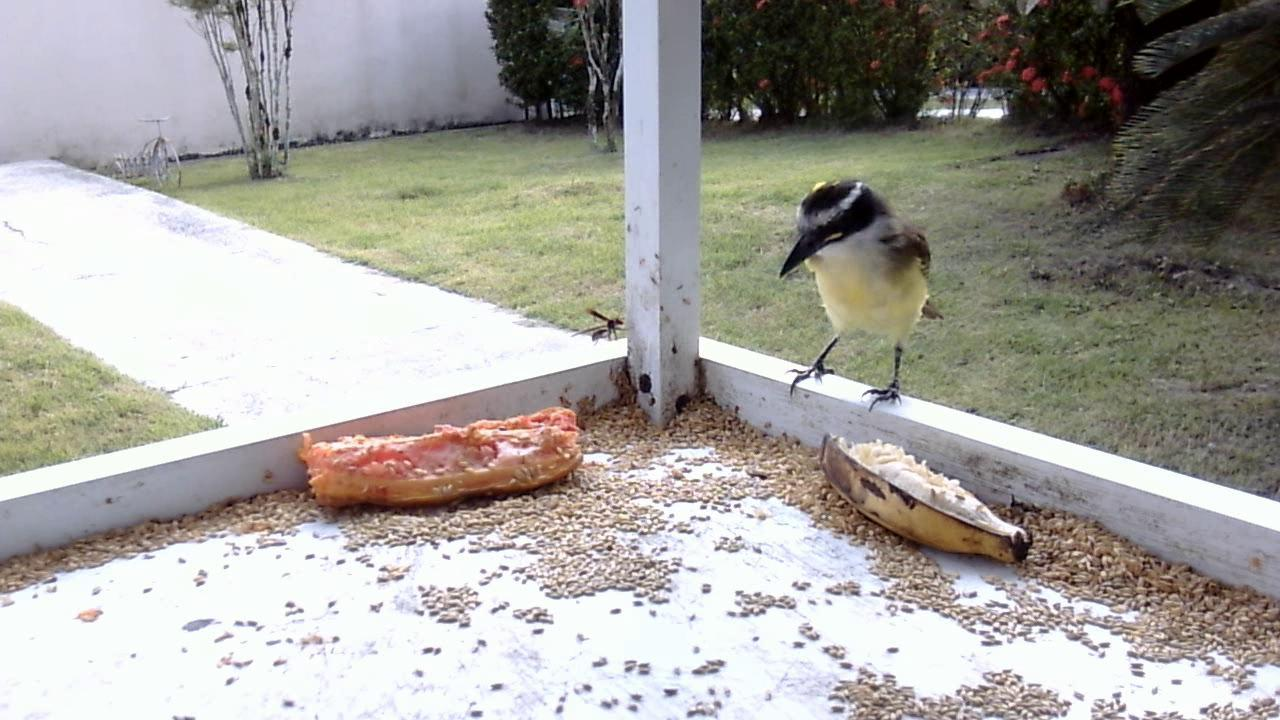bem_te_vi: (772, 174, 942, 415)
